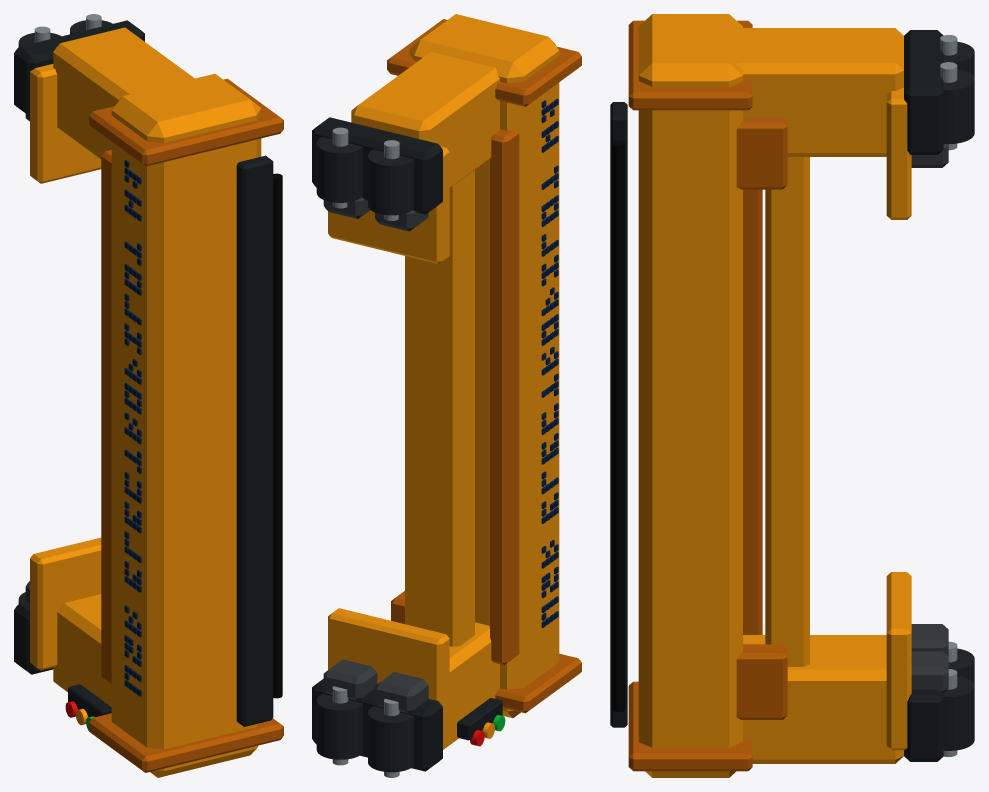
Rendered from hoist_h1.obj.
3 views of the same model, side by side, from view 1: azimuth 30°, elevation 25°; view 2: azimuth 150°, elevation 25°; view 3: azimuth 270°, elevation 25° (orthographic). The views are drawn at different scales.
Size of the model in its own units: 0.72 by 3.18 by 1.47.
